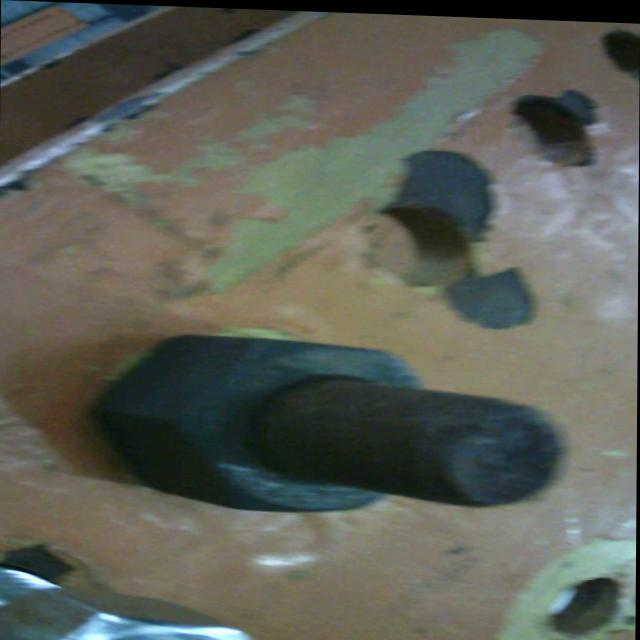Loose bolt: (1, 570, 263, 640)
Missing bolt: (357, 198, 490, 297), (509, 87, 604, 166), (546, 571, 633, 639), (602, 26, 640, 79)
Rusty bolt: (82, 324, 573, 522)
